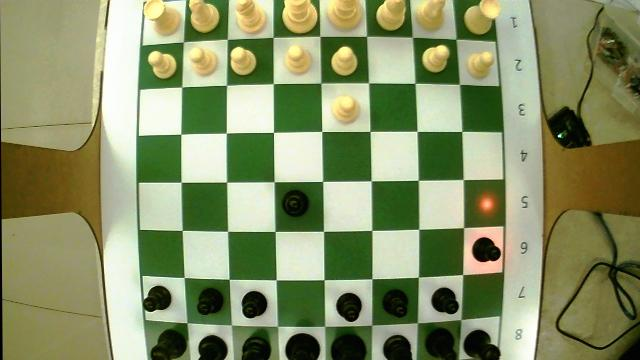piece: (420, 327, 459, 359), (144, 0, 180, 34), (281, 0, 319, 32), (465, 0, 499, 34), (326, 0, 363, 30), (153, 325, 186, 358), (284, 0, 316, 33), (331, 329, 366, 358), (235, 0, 265, 33), (415, 0, 445, 30), (464, 2, 493, 33), (465, 330, 498, 357), (375, 0, 405, 29), (190, 0, 218, 31), (375, 0, 403, 29), (243, 329, 270, 358), (286, 334, 319, 357), (197, 285, 225, 312), (148, 51, 176, 78), (192, 1, 219, 28), (190, 46, 216, 74), (228, 47, 254, 73), (420, 45, 447, 70), (332, 46, 356, 74), (382, 289, 406, 317), (337, 293, 361, 320), (283, 191, 308, 216), (383, 335, 410, 358), (337, 293, 360, 320), (242, 290, 265, 316), (146, 0, 168, 27), (468, 51, 492, 75), (473, 237, 499, 259), (286, 46, 308, 72), (199, 336, 226, 357), (145, 285, 169, 308), (432, 290, 457, 312), (334, 95, 356, 116), (166, 12, 174, 30)
